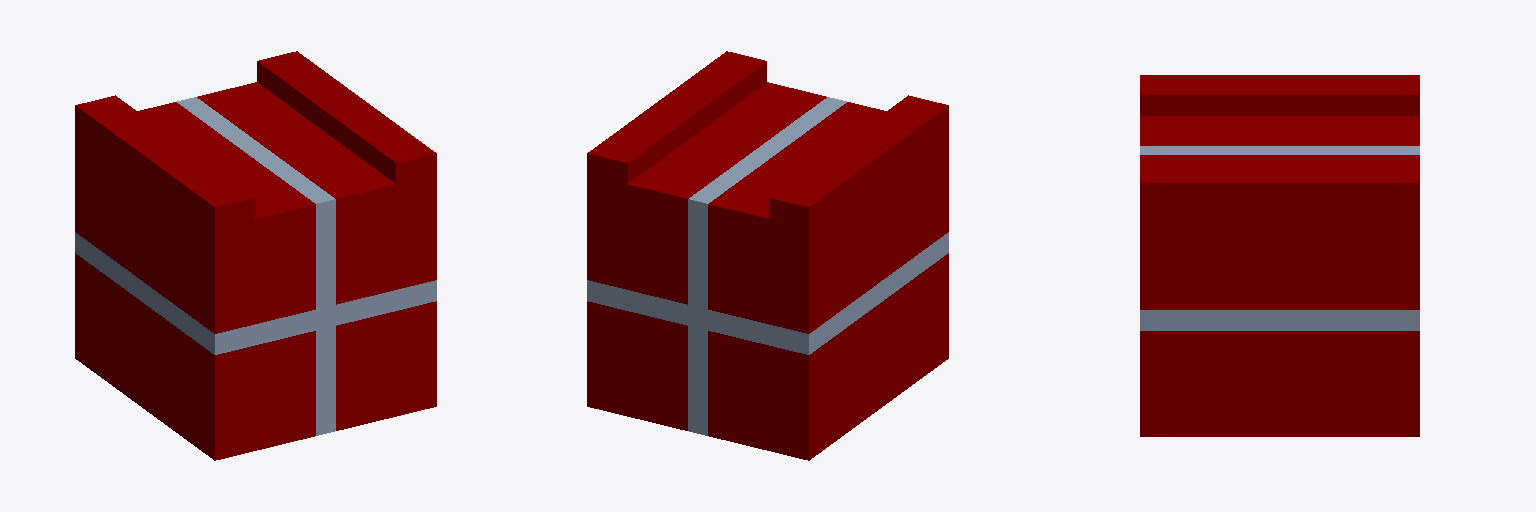
3 renders of one model, left to right at view 1: azimuth 30°, elevation 25°; view 2: azimuth 150°, elevation 25°; view 3: azimuth 270°, elevation 25°, orthographic.
Parts seen in each view (by area): view 1: object 1; view 2: object 1; view 3: object 1.
Boxes of the visible parts, x1,y1,x2,y2 form: object 1: [75, 51, 436, 460]; object 1: [587, 51, 948, 460]; object 1: [1140, 75, 1419, 436].
Size of the model in its own units: 1.1 by 1.2 by 1.2.
Materials: 1 (1 with a texture image).